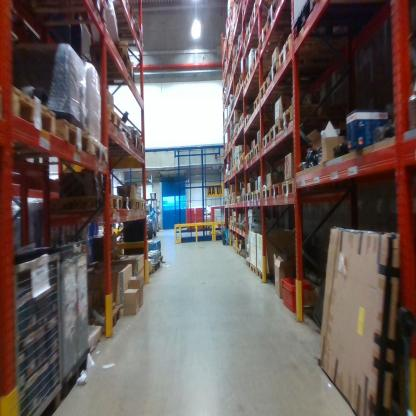pallet: (3, 73, 54, 148), (281, 93, 349, 142), (21, 3, 111, 31), (279, 29, 347, 66), (267, 58, 337, 91), (40, 192, 125, 218), (80, 46, 135, 83), (55, 109, 89, 163), (93, 300, 124, 343), (257, 19, 305, 44), (259, 77, 301, 103), (264, 0, 303, 26), (246, 12, 281, 40), (253, 44, 285, 69), (242, 73, 274, 97), (101, 2, 140, 20), (114, 116, 135, 148), (252, 90, 276, 117), (107, 21, 140, 40), (246, 62, 279, 81), (281, 170, 302, 198), (245, 113, 272, 134), (243, 31, 264, 56), (258, 262, 279, 283), (251, 2, 275, 20), (238, 73, 254, 96), (270, 118, 282, 148), (120, 194, 133, 214), (152, 258, 166, 276), (253, 138, 262, 162), (270, 180, 282, 197), (263, 126, 270, 155), (135, 134, 146, 152), (241, 220, 252, 237), (133, 193, 141, 215), (262, 184, 270, 202), (250, 262, 259, 278), (239, 112, 247, 129), (156, 252, 164, 268), (254, 187, 262, 202), (245, 255, 252, 272), (248, 146, 254, 165), (240, 249, 248, 261), (142, 197, 147, 214), (244, 148, 248, 168), (249, 188, 254, 204), (238, 220, 244, 232), (232, 242, 238, 253), (245, 189, 249, 204), (233, 124, 237, 139), (237, 120, 241, 134), (226, 219, 232, 227), (237, 193, 241, 205), (233, 196, 239, 204), (230, 196, 235, 205), (233, 219, 237, 229), (241, 194, 246, 202), (237, 247, 240, 258), (231, 219, 235, 227), (236, 221, 239, 230)
small_load_carrier: (281, 271, 315, 319)
stillage: (3, 247, 61, 411)
